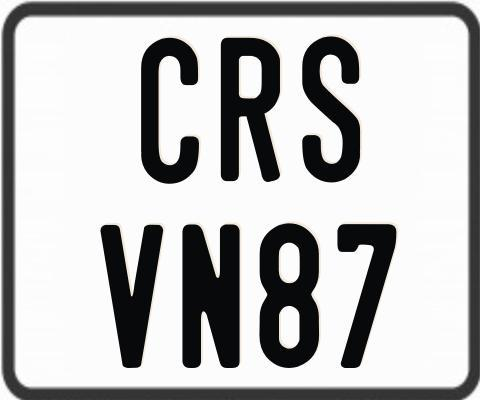7: (335, 221, 397, 369)
8: (257, 223, 317, 370)
C: (140, 37, 203, 186)
N: (179, 222, 237, 366)
R: (219, 36, 281, 186)
S: (302, 35, 362, 184)
V: (99, 222, 166, 367)
